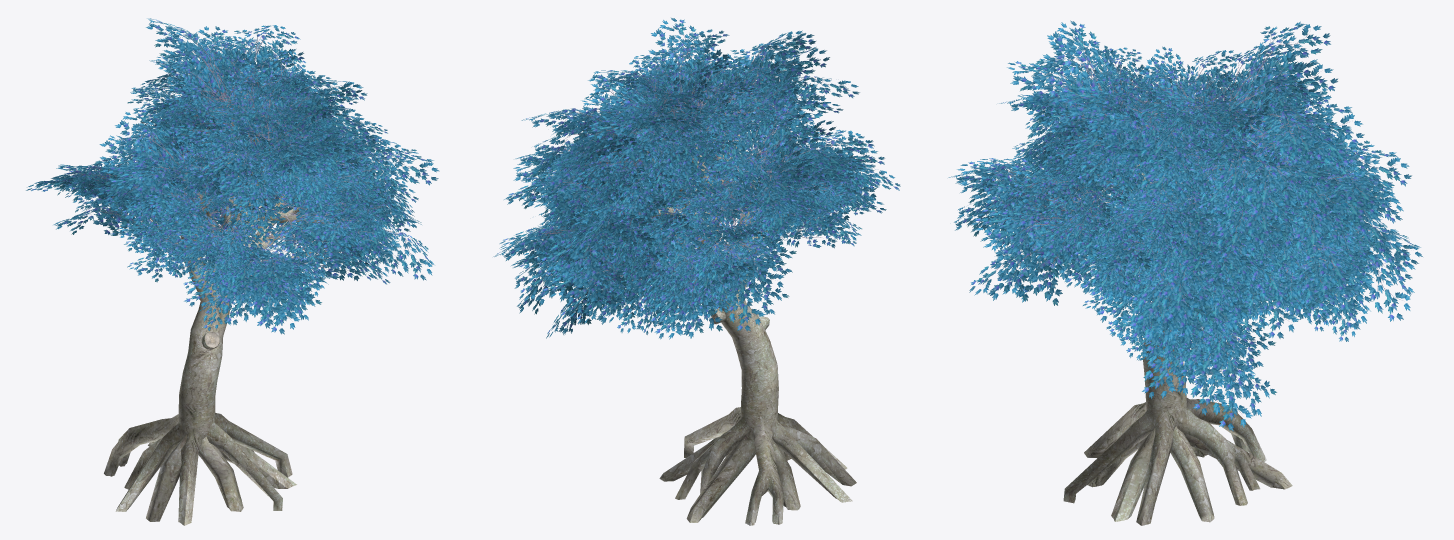
File: yggrassil_02.fbx
The picture shows the model from 3 angles, left to right: view 1: azimuth 30°, elevation 25°; view 2: azimuth 150°, elevation 25°; view 3: azimuth 270°, elevation 25°; orthographic projection. The views are drawn at different scales.
Parts seen in each view (by area): view 1: yggrassil_02; view 2: yggrassil_02; view 3: yggrassil_02.
Part boxes in pixels (<box>): yggrassil_02: <box>26,18,439,525</box>; yggrassil_02: <box>493,18,900,525</box>; yggrassil_02: <box>948,20,1422,525</box>.
Size of the model in its own units: 1002 by 1172 by 1152.
Materials: 4 (3 with a texture image).
